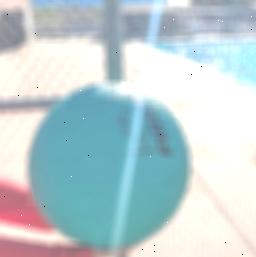algae: (24, 78, 195, 252)
